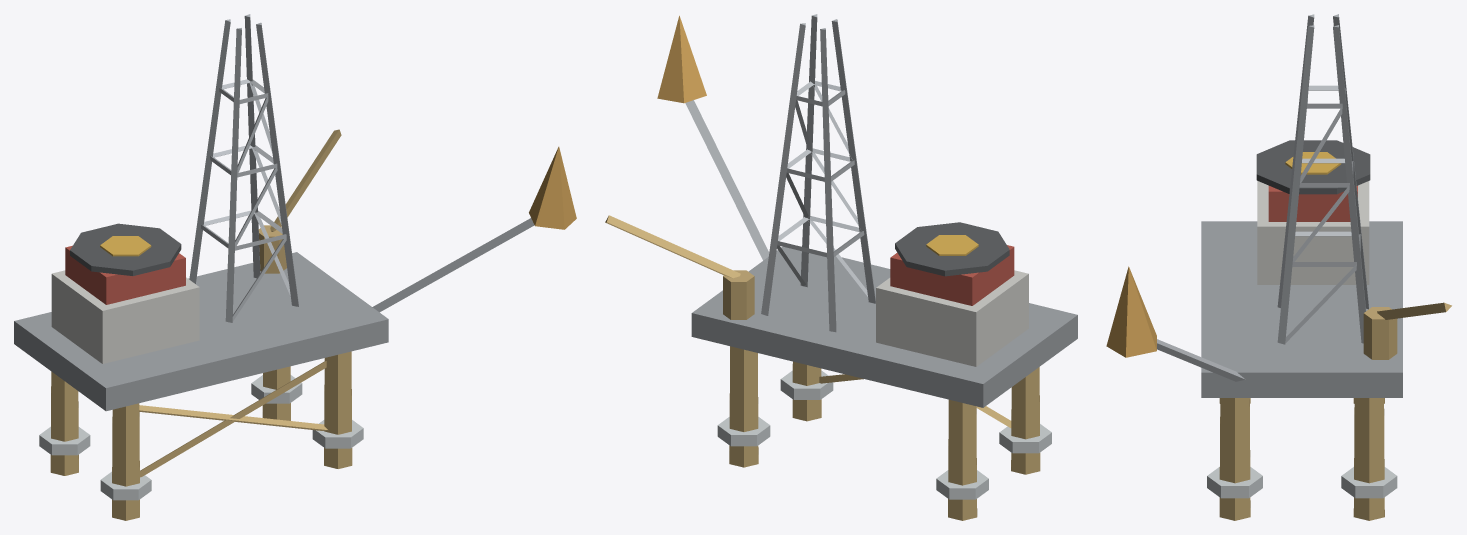
The model's file is offshore-platform.glb.
3 views of the same model, side by side, from view 1: azimuth 30°, elevation 25°; view 2: azimuth 150°, elevation 25°; view 3: azimuth 270°, elevation 25° (orthographic). The views are drawn at different scales.
Visible parts, largest first — view 1: LOD0; view 2: LOD0; view 3: LOD0.
Boxes of the visible parts, bbox=[...] form: LOD0: bbox=[14, 14, 576, 520]; LOD0: bbox=[605, 14, 1077, 520]; LOD0: bbox=[1106, 14, 1451, 520].
Size of what is drawn, in the model's own units: 0.9875 by 0.9159 by 0.6187.
